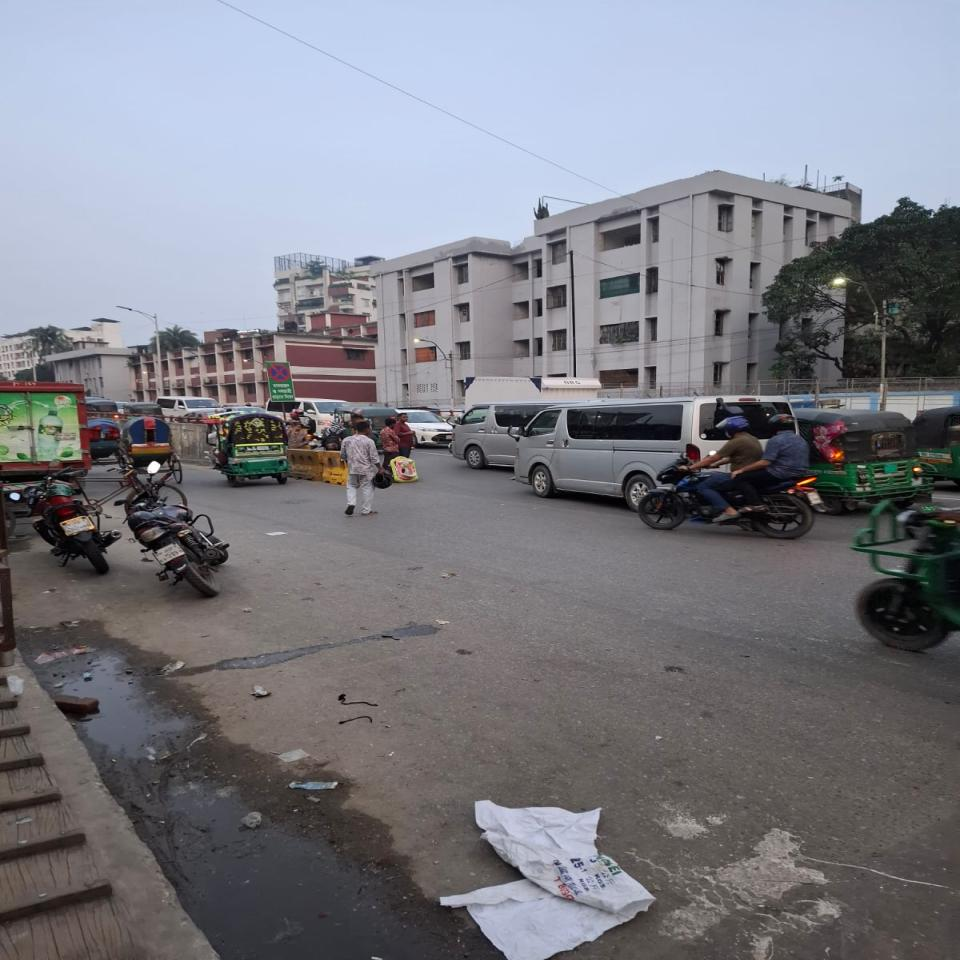person: (334, 414, 380, 518), (382, 419, 399, 479), (321, 416, 346, 453), (398, 412, 416, 461), (287, 426, 310, 450)
